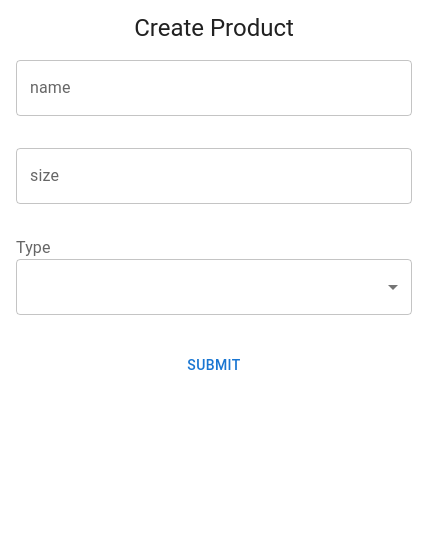
Test: when the user submit the form and the server returns an invalid request error › the form page must display the error message “The form is invalid, the fields [field1...fieldN] are required”
Click the button "Submit" at point(214, 365), box [16,347,412,384]
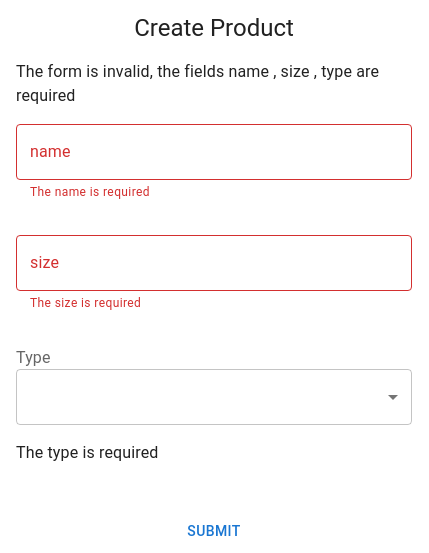
Result: the text "The form is invalid, the fields name , size , type are required" is shown at [16,60,412,108]
